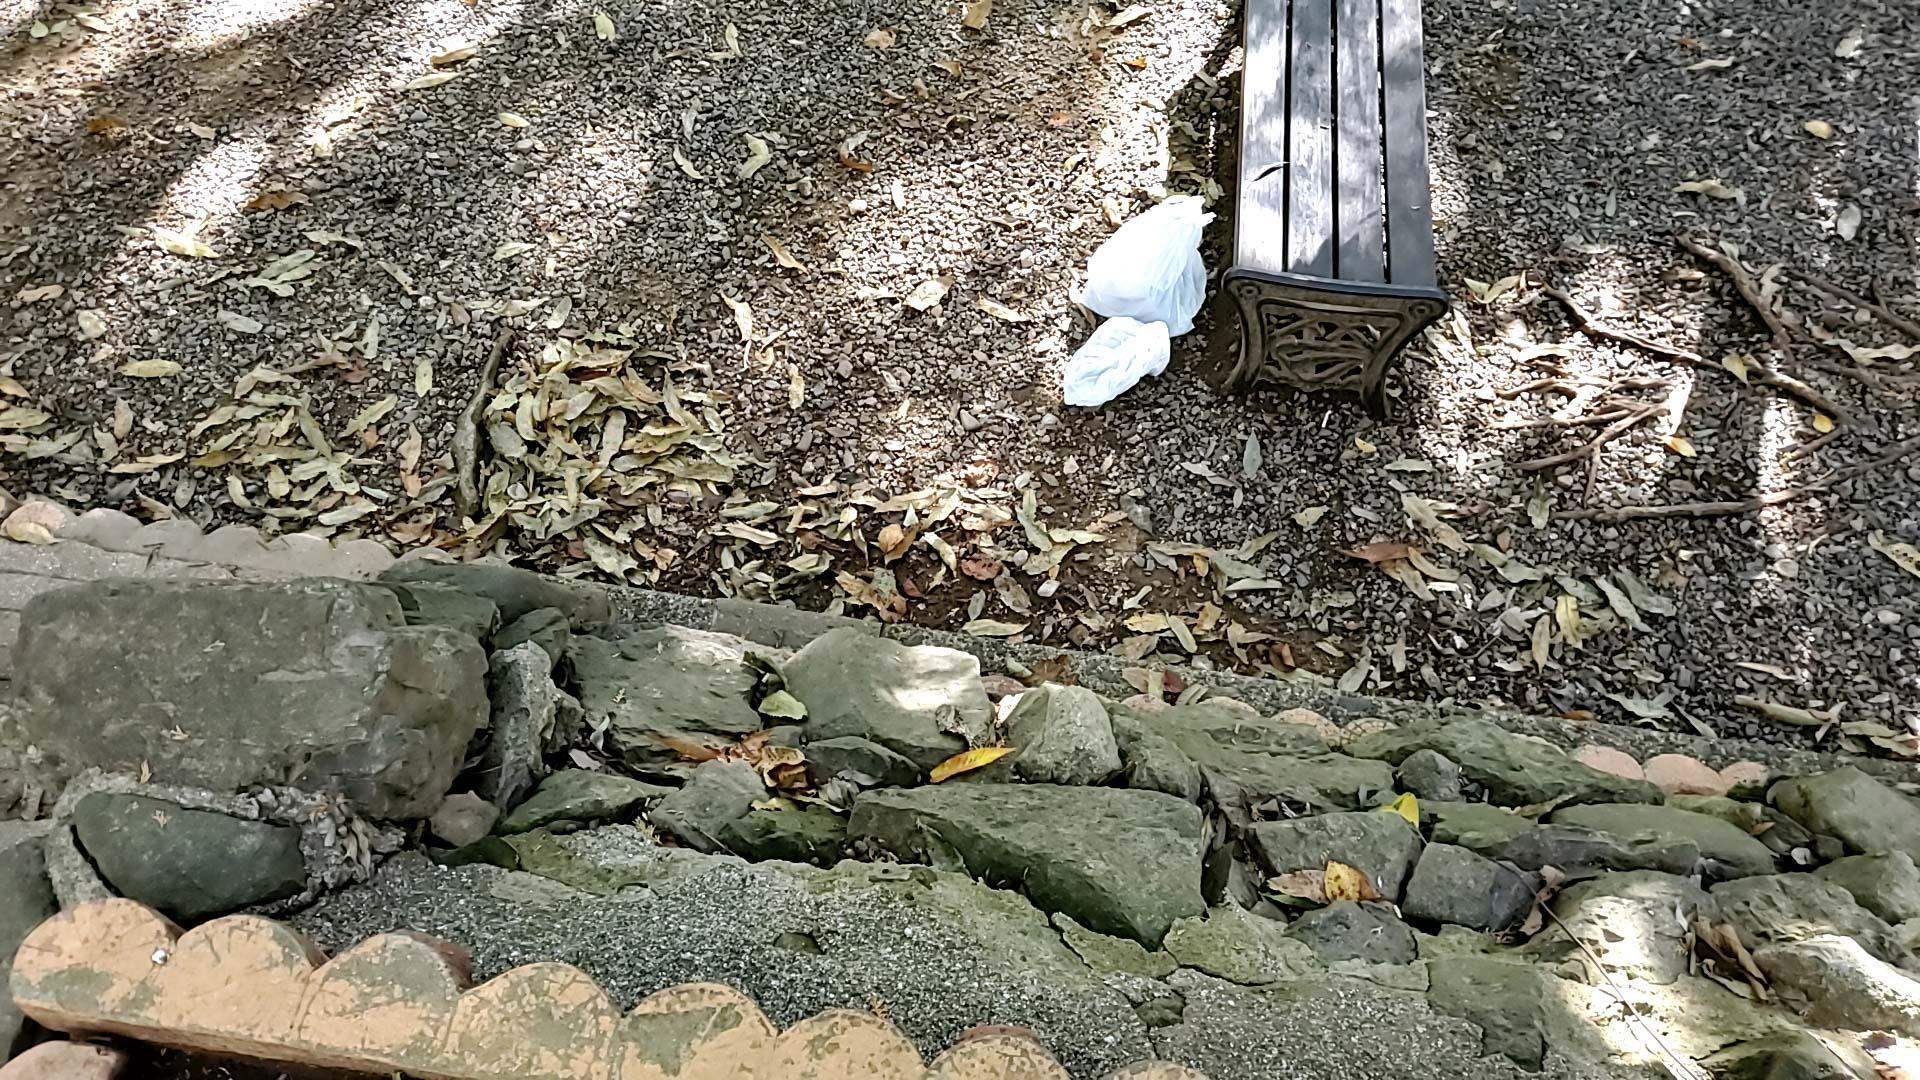white_bag: (1069, 187, 1218, 342), (1054, 314, 1176, 411)
